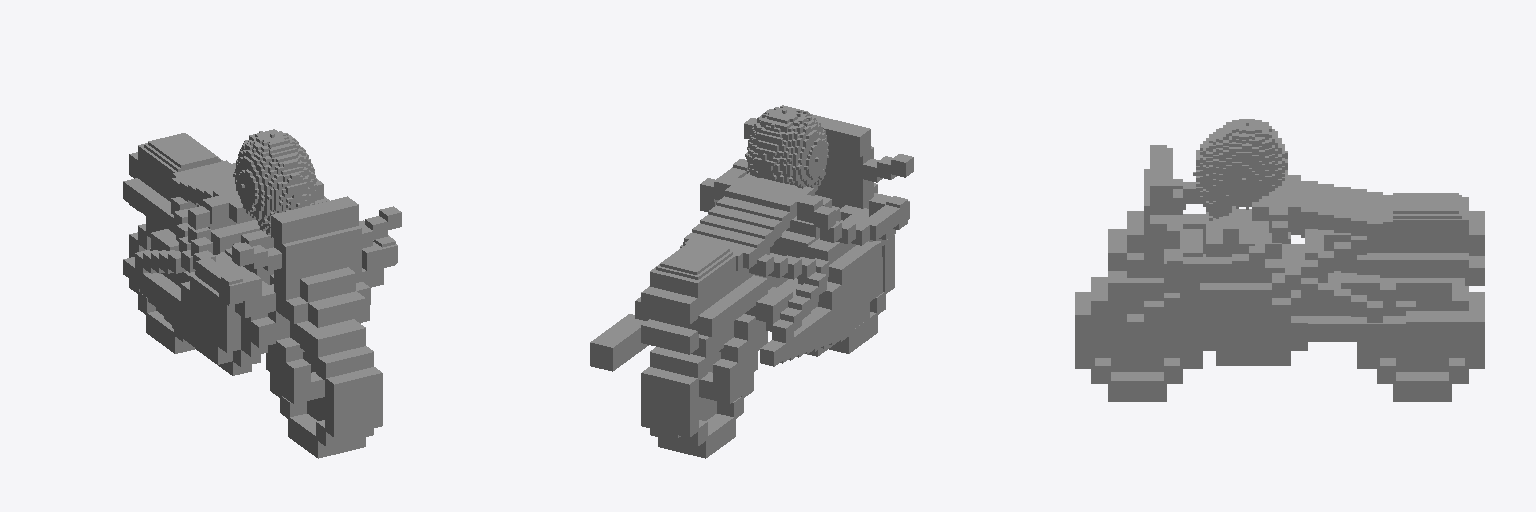
File: Motor_ride_orange+red_edit.obj
3 views of the same model, side by side, from view 1: azimuth 30°, elevation 25°; view 2: azimuth 150°, elevation 25°; view 3: azimuth 270°, elevation 25° (orthographic).
Parts seen in each view (by area): view 1: Motor_ride_orange+red; view 2: Motor_ride_orange+red; view 3: Motor_ride_orange+red.
Boxes of the visible parts, x1,y1,x2,y2 form: Motor_ride_orange+red: [123, 129, 401, 458]; Motor_ride_orange+red: [590, 105, 913, 458]; Motor_ride_orange+red: [1075, 119, 1484, 401].
Size of the model in its own units: 5.9 by 9 by 12.5.